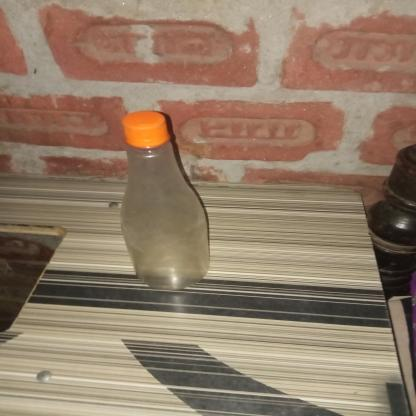bottle: (118, 111, 215, 294)
